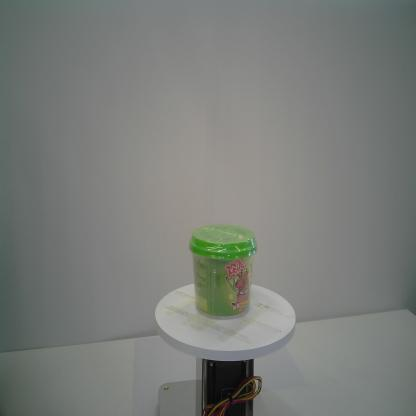Instant Drink: (188, 223, 258, 320)
